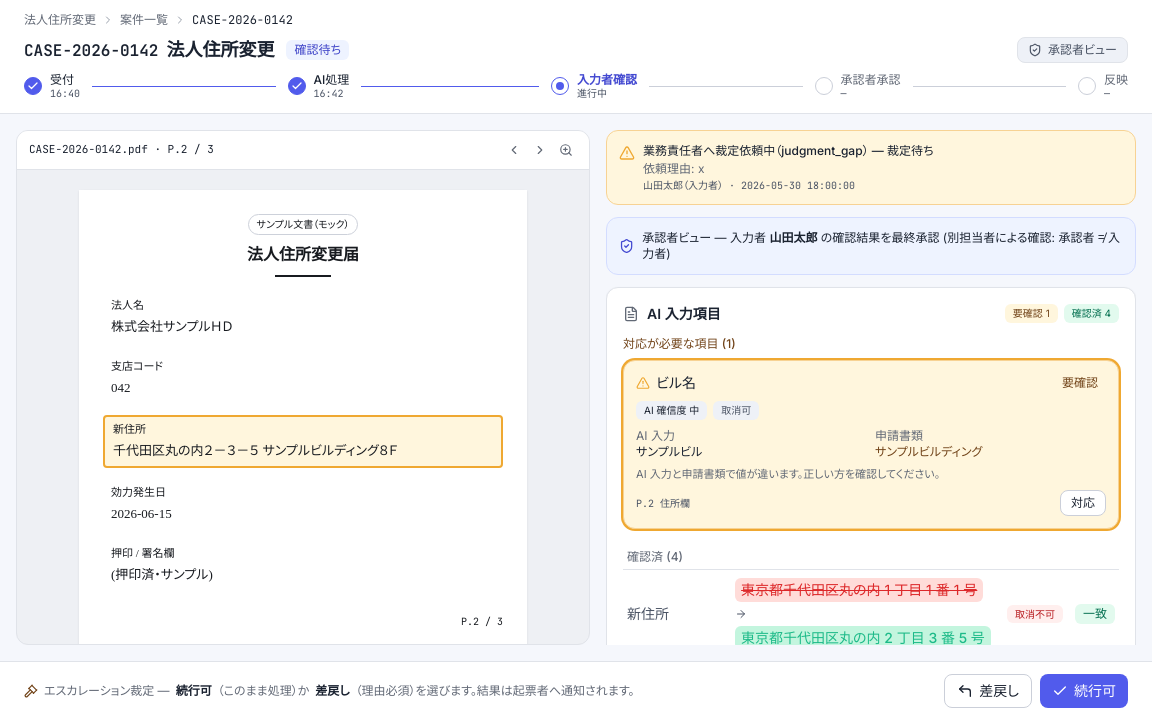
Test: W3 escalation: CaseDetail 裁定面 › F-016 差戻し: 理由必須 → sent-back + 差戻し banner、裁定面は消える
The width and height of the screenshot is (1152, 720).
Click the button "差戻し": x=988, y=691 left=944, top=674, right=1032, bottom=708
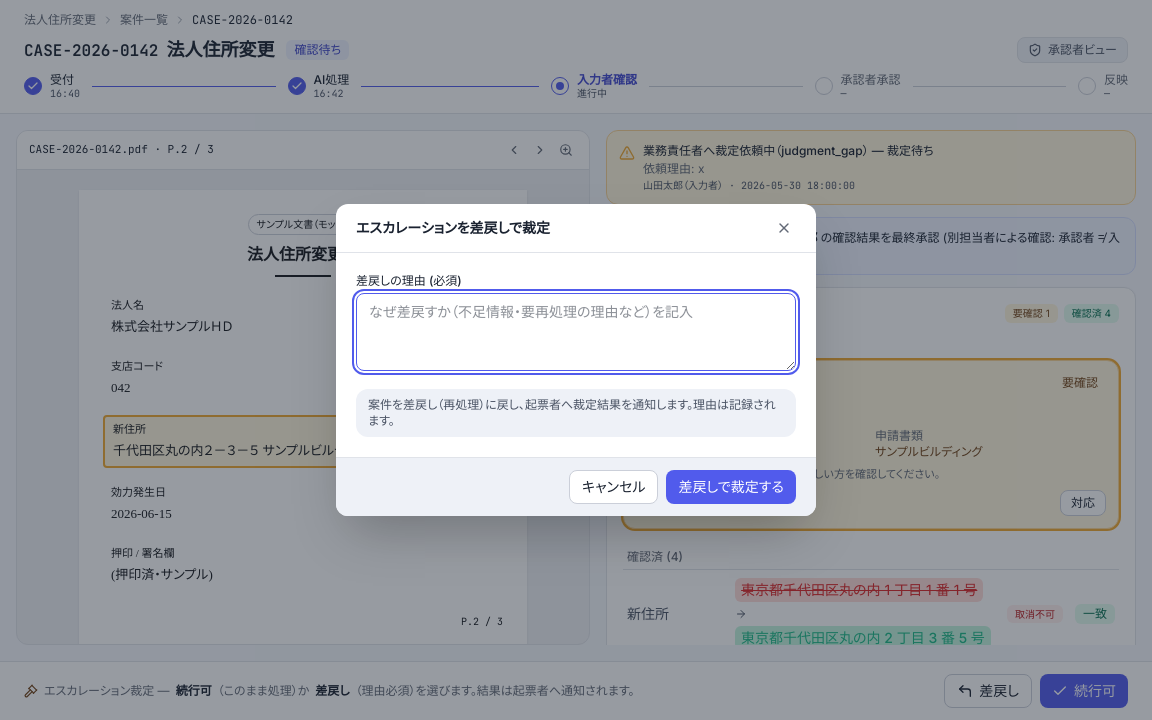
Note: 理由空で submit → error (未 dispatch)
Click the button "差戻しで裁定する": x=731, y=487 left=666, top=470, right=796, bottom=504
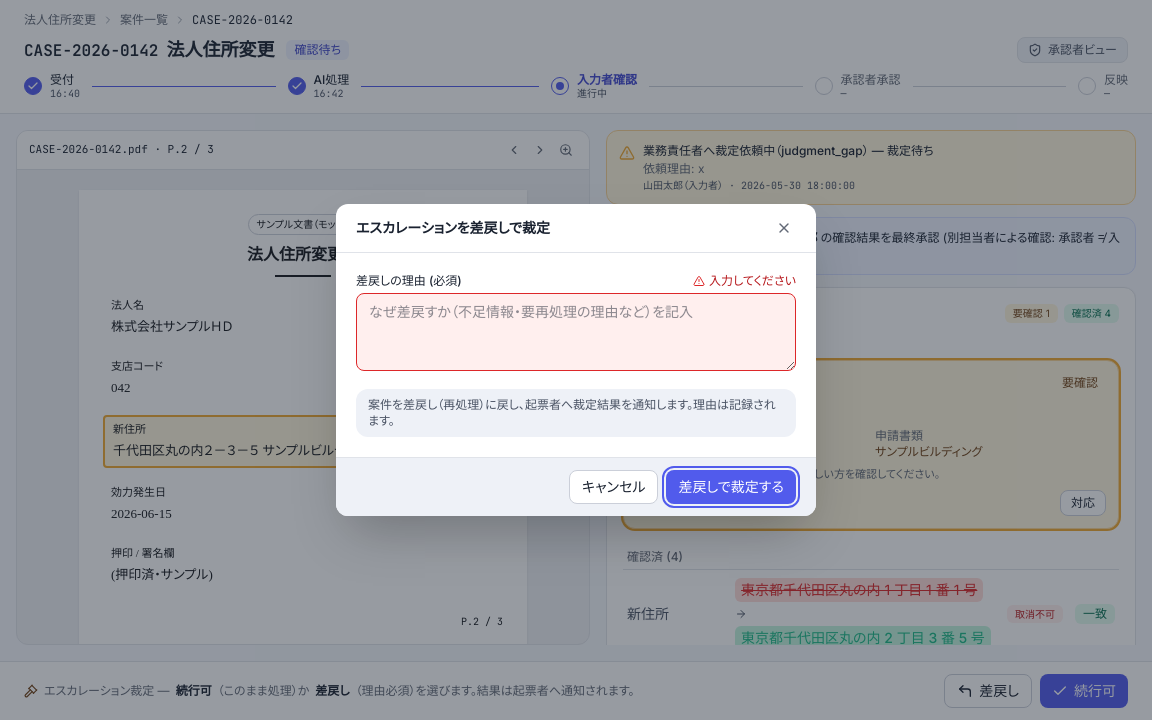
Expected: the text "入力してください" is shown, left=693, top=273, right=796, bottom=289
Note: 理由入力 → submit → sent-back、差戻し banner、裁定面消失
In the text box: x=576, y=332 left=356, top=293, right=796, bottom=371, type "本人確認書類が不足のため再取得が必要"
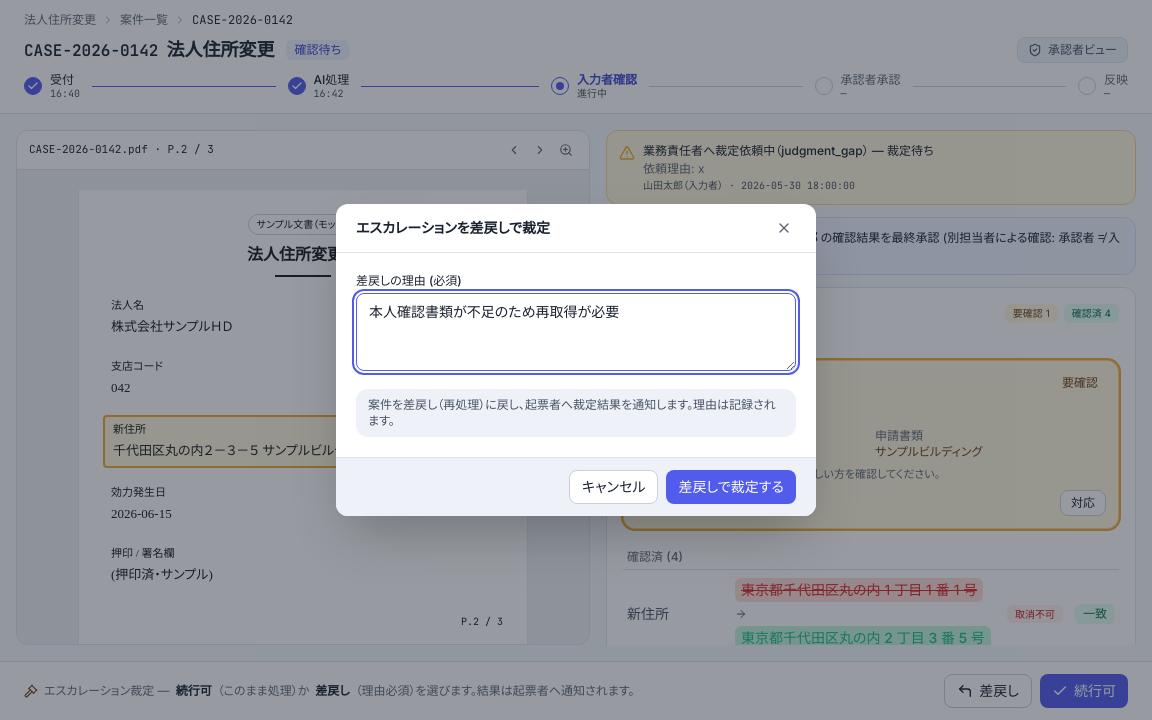
Click the button "差戻しで裁定する": x=731, y=487 left=666, top=470, right=796, bottom=504
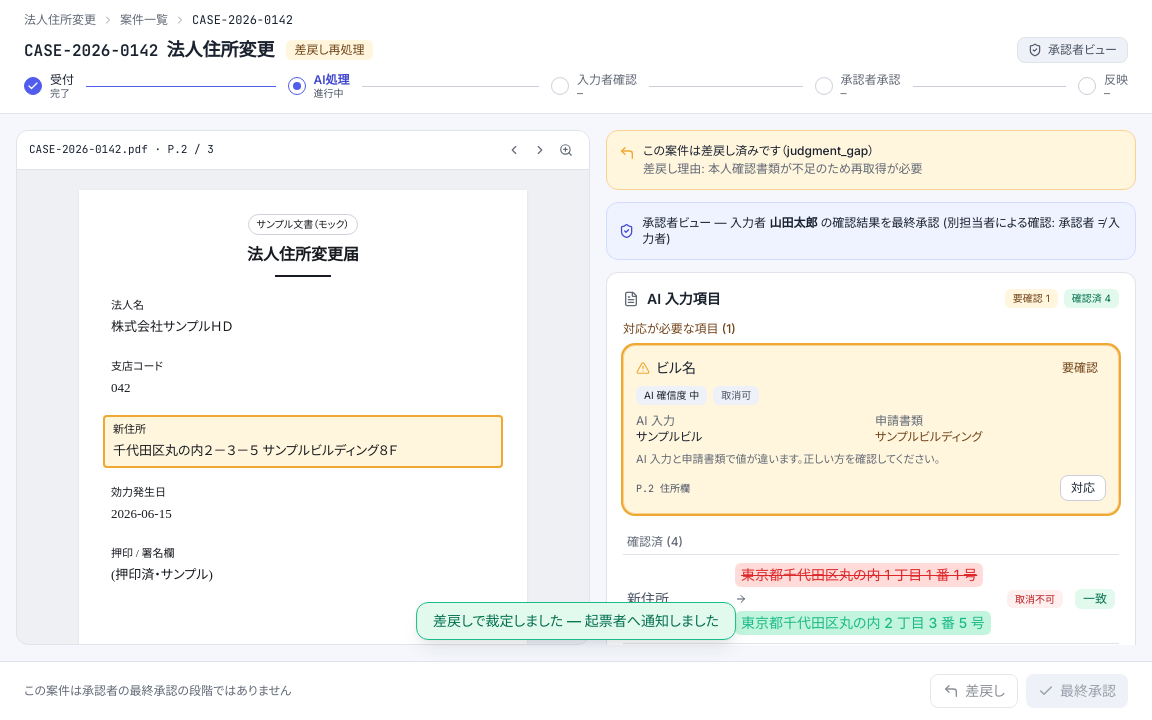
Expected: the text "この案件は差戻し済みです（judgment_gap）" is shown, left=643, top=142, right=874, bottom=158
Expected: the text "差戻し理由: 本人確認書類が不足のため再取得が必要" is shown, left=643, top=160, right=923, bottom=176
Expected: the text "続行可" is gone
